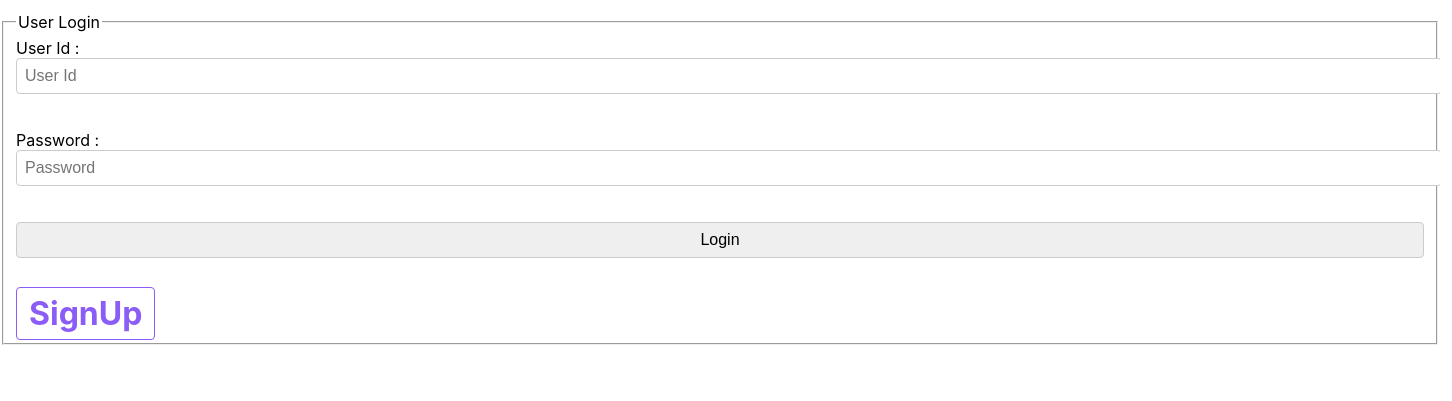
Login Component › should display valid result message for correct credentails
Step 1. Type "admin" into the field with placeholder "User Id" → (728, 76), box [16,58,1440,94]
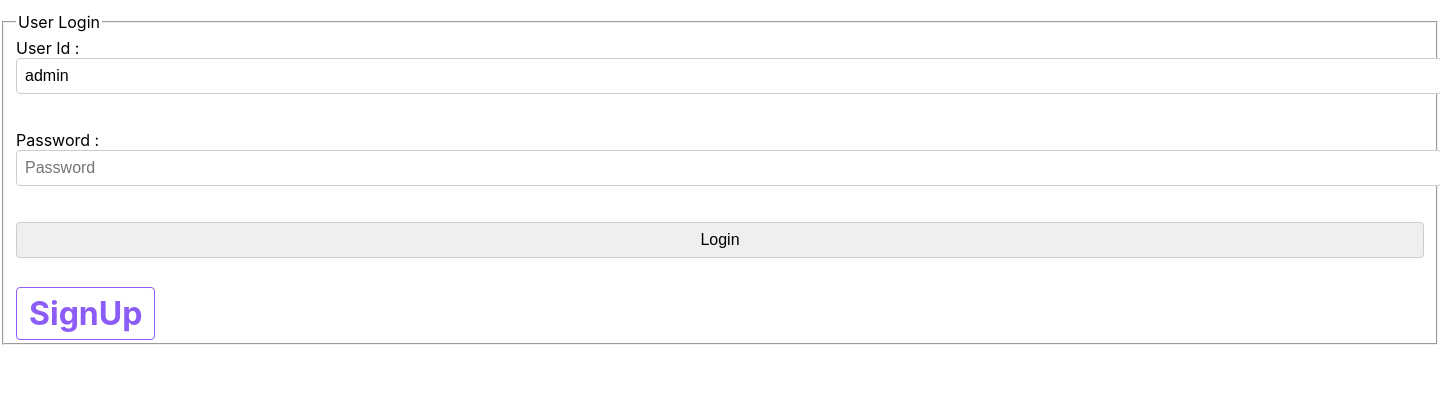
Step 2. Type "admin123" into the password field with placeholder "Password" → (728, 168), box [16,150,1440,186]
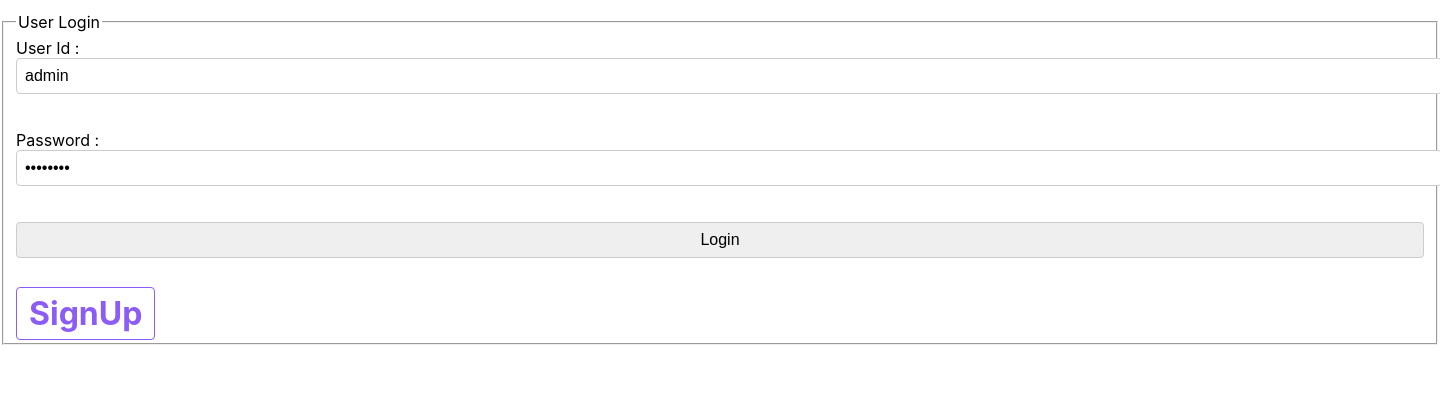
Step 3. Click the button "Login" → (720, 240), box [16,222,1424,258]
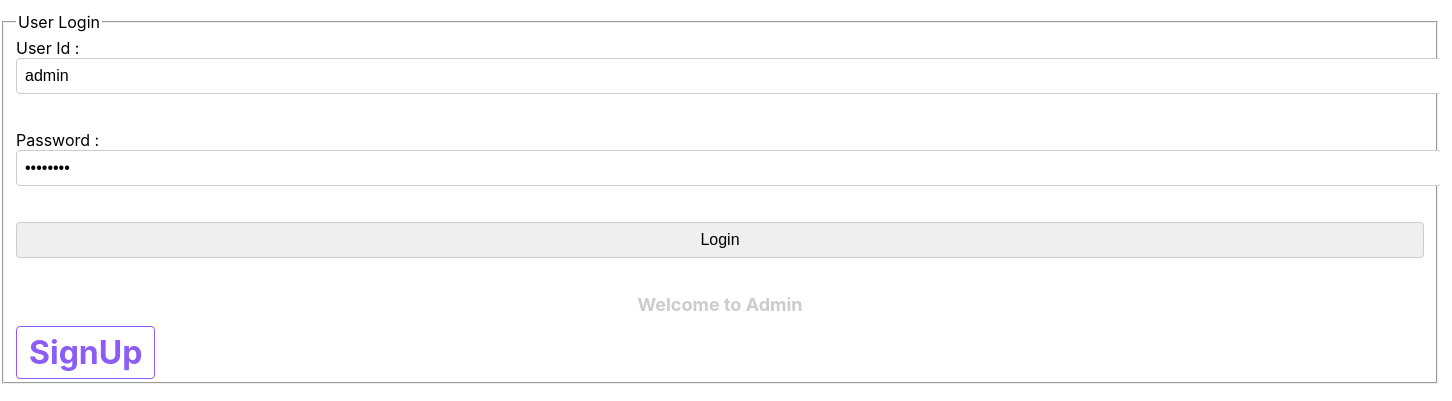
Check: the text "Welcome to Admin" is shown, box [638,294,802,315]
